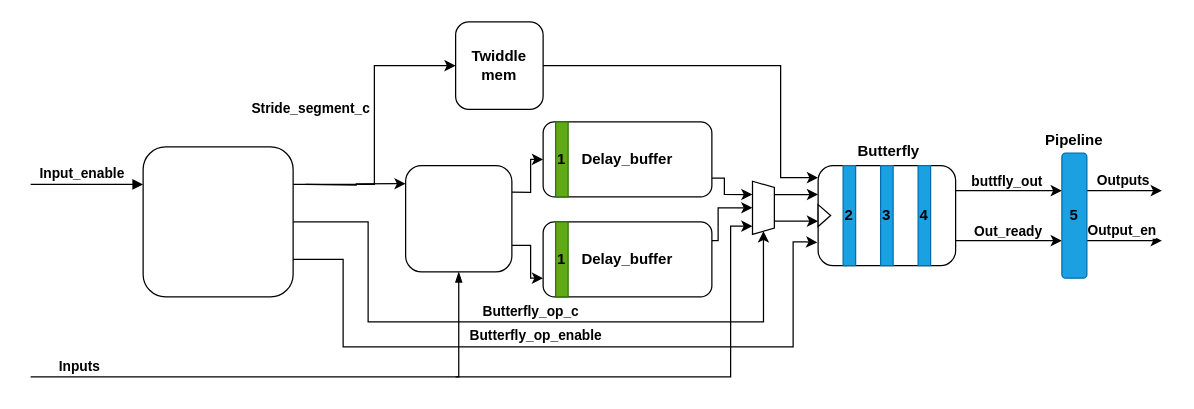
This 1194x409 diagram has some shape labels left out. The centre of each missing label's shape, as x and y in pixels:
"Control Unit" belongs at [217,221].
"Delay_buffers Control" belongs at [458,218].
